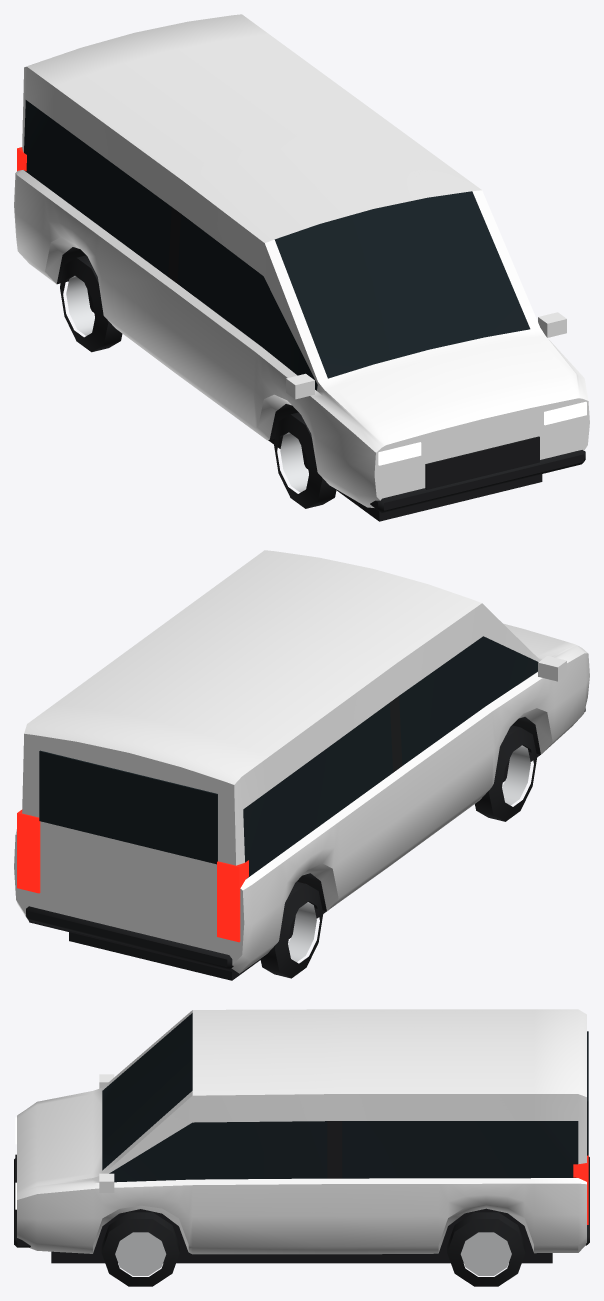
Rendered from car_van.gltf.
3 views of the same model, one above another, from view 1: azimuth 30°, elevation 25°; view 2: azimuth 150°, elevation 25°; view 3: azimuth 270°, elevation 25° (orthographic). The views are drawn at different scales.
Visible parts, largest first — view 1: car_van_body; view 2: car_van_body; view 3: car_van_body.
Part boxes in pixels (x1,y1,x2,y2): car_van_body: (14,14,589,521); car_van_body: (14,550,589,980); car_van_body: (14,1009,589,1286).
Size of the model in its own units: 2.2 by 1.9 by 5.
